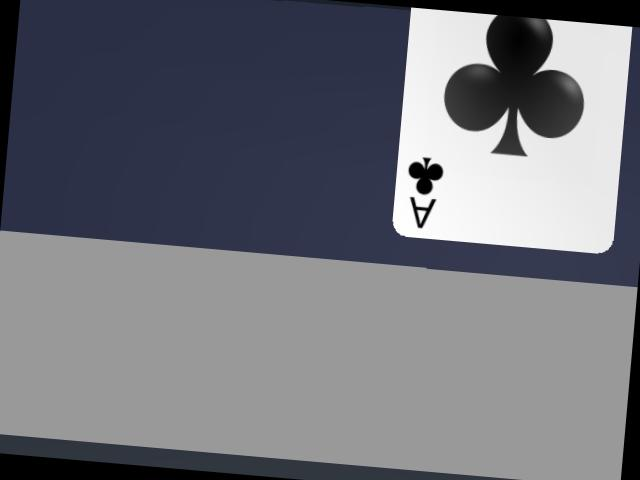spade: (393, 8, 630, 253)
